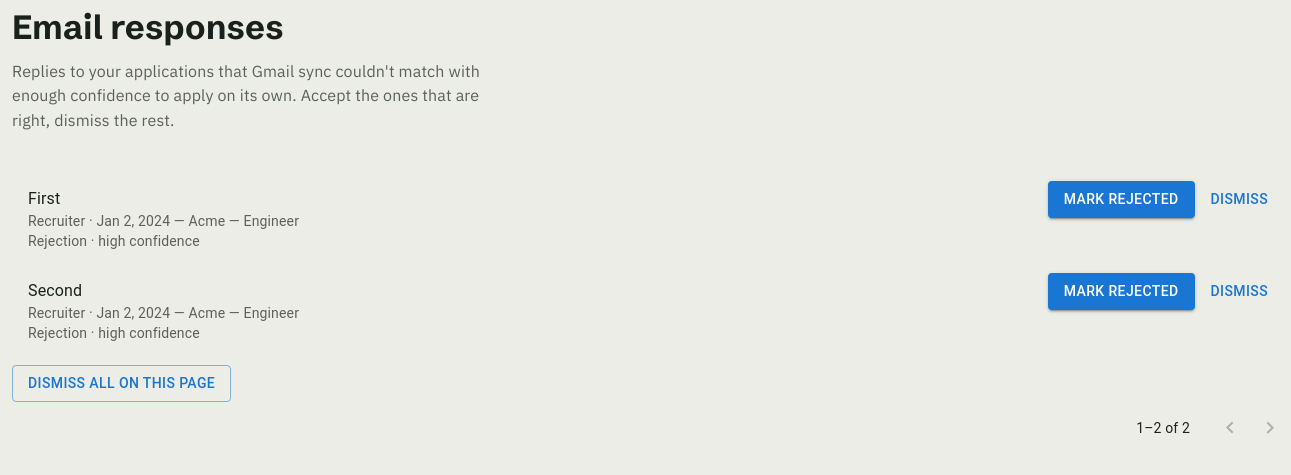
Test: EmailResponsesPage › announces the accepted status while rows remain
Expected: the text "First" is shown, [28, 189, 60, 208]
Click the button with aria-label "Mark Rejected: First" at (1121, 199), box [1048, 181, 1194, 218]
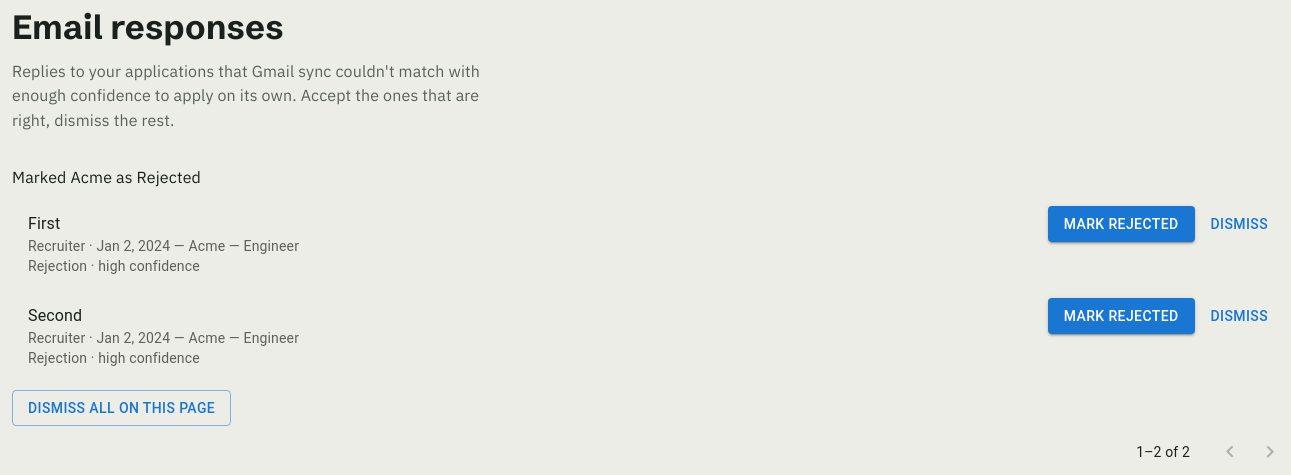
Expected: the text "Marked Acme as Rejected" is shown, [12, 167, 201, 187]
